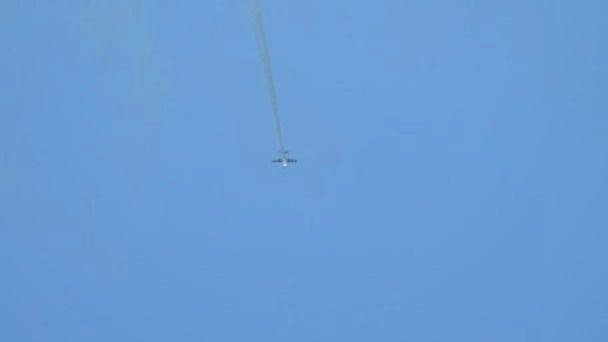Plane: (258, 145, 311, 175)
